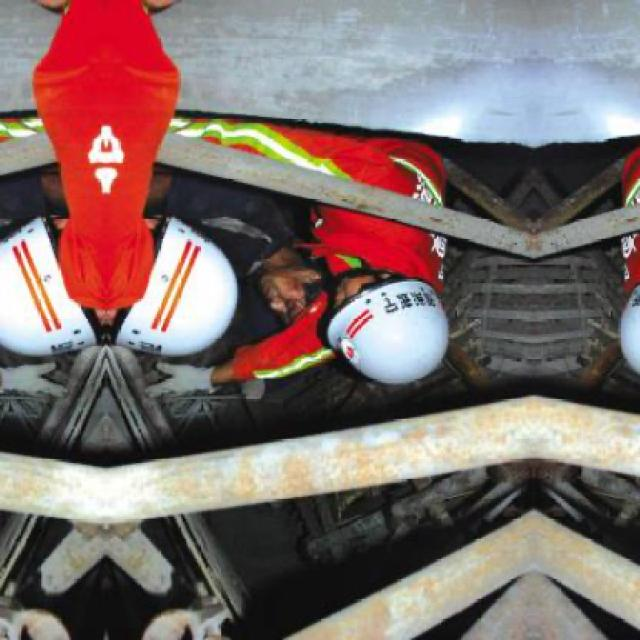con casco: (293, 264, 466, 380)
